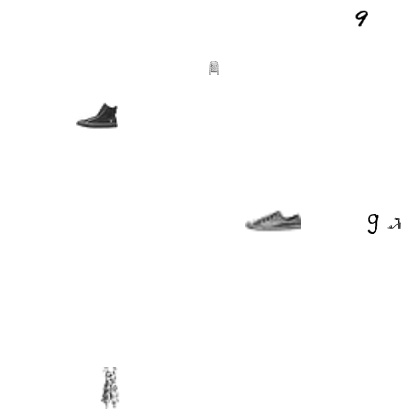9: (359, 209, 387, 237), (350, 6, 372, 28)
Dress: (89, 367, 131, 409)
Pullover: (207, 61, 221, 75)
Sandal: (387, 216, 401, 230)
Sneaker: (245, 193, 301, 249), (76, 94, 118, 136)
